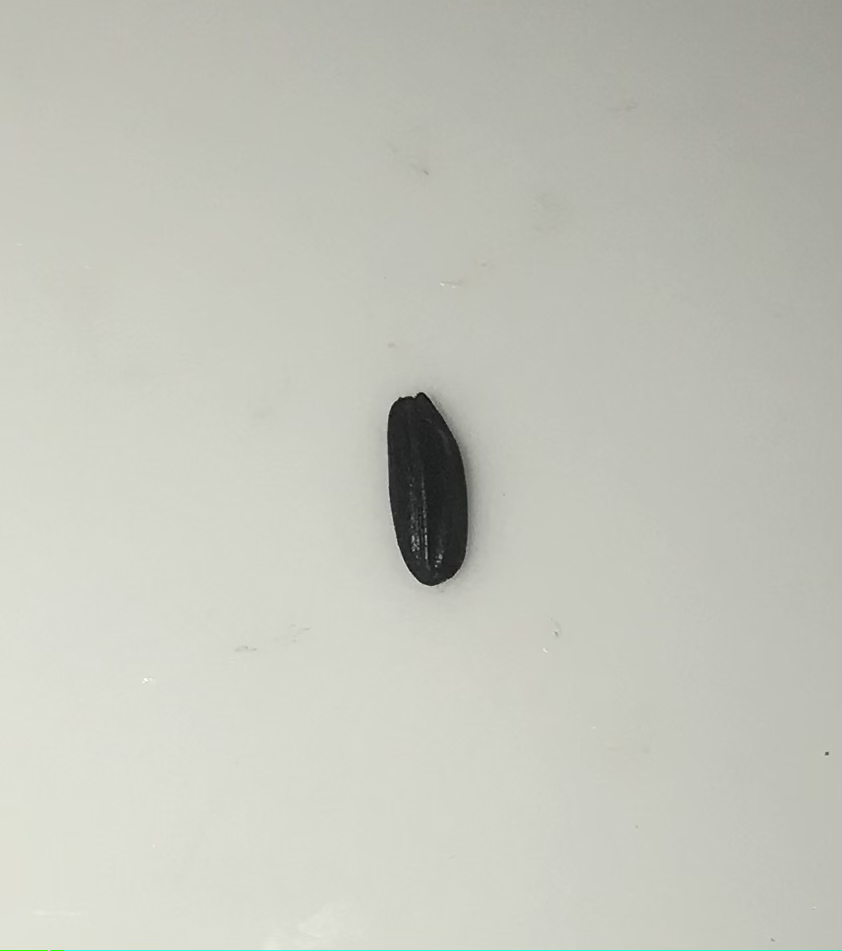Gao Nep Cam: (371, 381, 476, 594)
